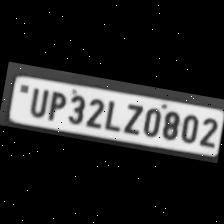0: (138, 103, 162, 138), (176, 110, 200, 144)
2: (194, 114, 220, 148), (82, 93, 106, 129)
3: (62, 90, 86, 126)
8: (158, 106, 182, 142)
L: (100, 96, 122, 132)
P: (42, 88, 67, 122)
U: (24, 84, 48, 118)
Z: (117, 99, 144, 136)
